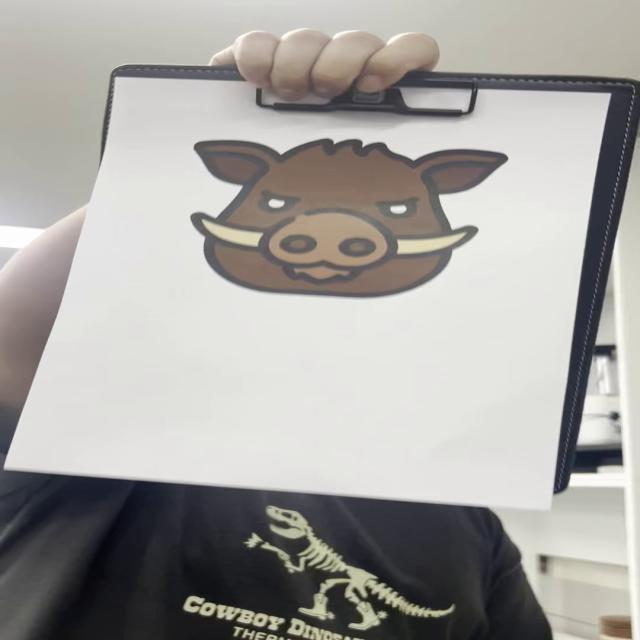animal: (197, 138, 512, 301)
